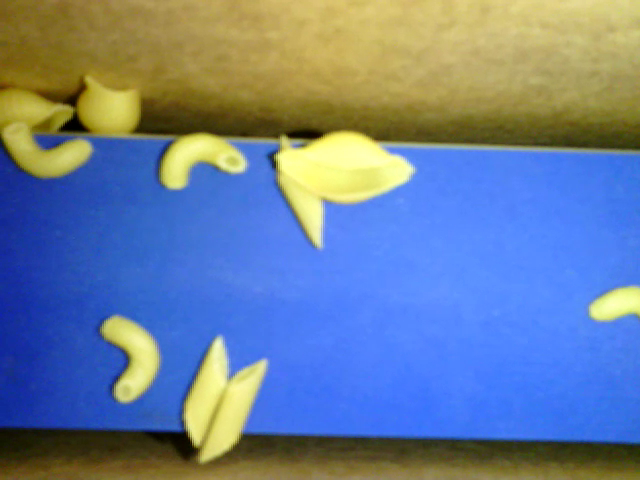elbow: (1, 119, 98, 180), (97, 309, 159, 402), (156, 133, 246, 187), (584, 282, 639, 327)
penne: (197, 356, 269, 463), (276, 130, 326, 249), (179, 333, 230, 448)
shell: (270, 132, 418, 202), (75, 73, 147, 136), (1, 88, 79, 133)
